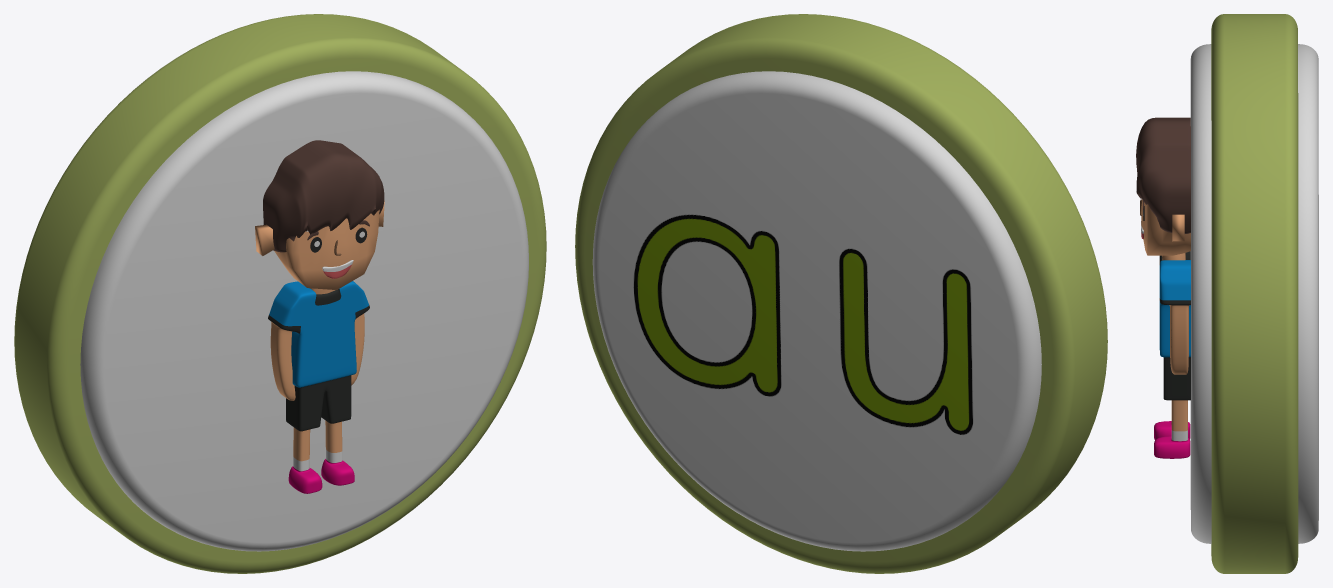
Rendered from boy5.gltf.
3 renders of one model, left to right at view 1: azimuth 30°, elevation 25°; view 2: azimuth 150°, elevation 25°; view 3: azimuth 270°, elevation 25°, orthographic. The views are drawn at different scales.
Parts seen in each view (by area): view 1: Cylinder_2, Cylinder.001, Cube.000, Cube.002, Cube; view 2: Cylinder_2, Cylinder.001; view 3: Cylinder.001, Cylinder_2, Cube.000, Cube.002, Cube.
Part boxes in pixels (box(x1,y1,x2,y2)): Cylinder_2: box(80, 71, 528, 551); Cylinder.001: box(14, 14, 546, 573); Cube.000: box(268, 281, 369, 493); Cube.002: box(263, 140, 384, 252); Cube: box(255, 200, 384, 294); Cylinder_2: box(592, 71, 1041, 551); Cylinder.001: box(575, 14, 1107, 573); Cylinder.001: box(1211, 14, 1298, 573); Cylinder_2: box(1190, 44, 1318, 543); Cube.000: box(1154, 251, 1190, 458); Cube.002: box(1136, 117, 1190, 233); Cube: box(1141, 200, 1190, 260).
Bounding box in the file's own units: 2.56 × 2.56 × 0.8346.
Materials: 14 (1 with a texture image).
